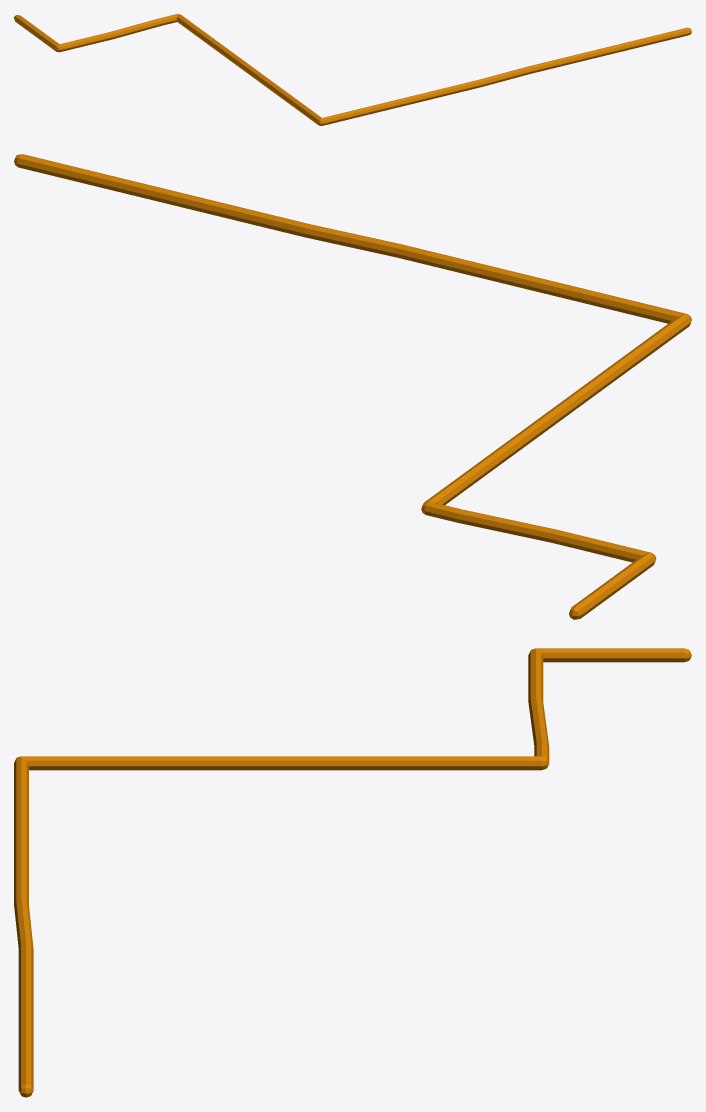
3 views of the same model, one above another, from view 1: azimuth 30°, elevation 25°; view 2: azimuth 150°, elevation 25°; view 3: azimuth 270°, elevation 25° (orthographic). The views are drawn at different scales.
Bounding box in the file's own units: 1405 × 20 × 912.
